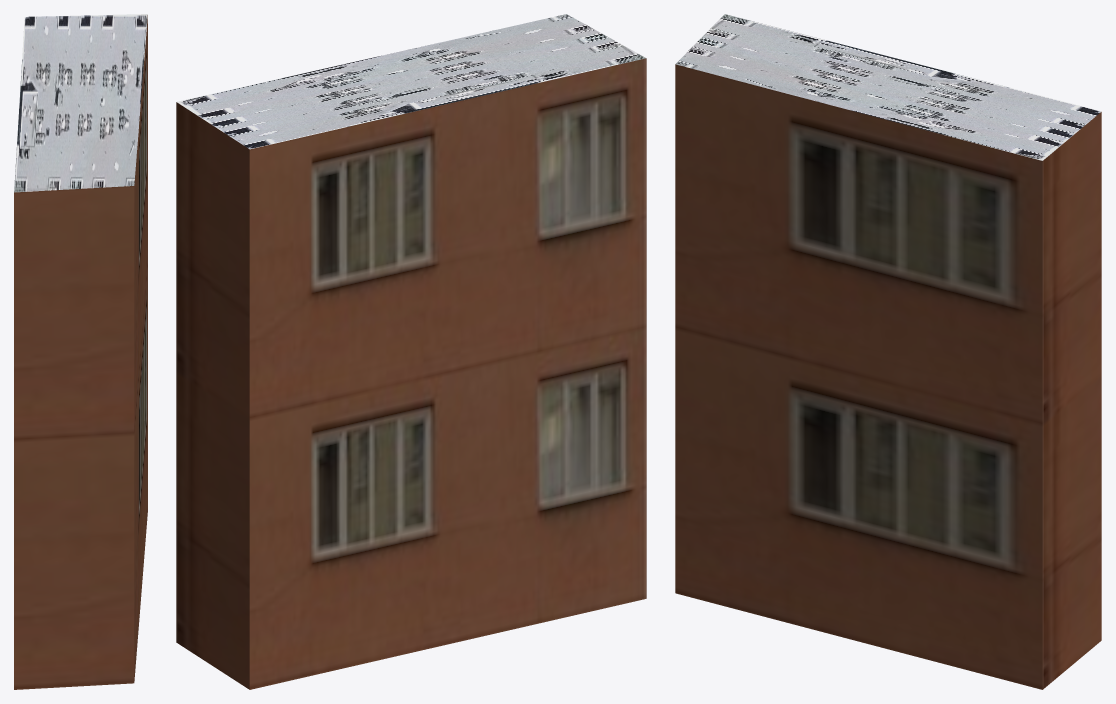
Rendered from ResTex__4488.fbx.
The picture shows the model from 3 angles, left to right: view 1: azimuth 30°, elevation 25°; view 2: azimuth 150°, elevation 25°; view 3: azimuth 270°, elevation 25°; orthographic projection. The views are drawn at different scales.
Parts seen in each view (by area): view 1: CityEngineMaterial_20_m, CityEngineMaterial_m; view 2: CityEngineMaterial_20_m, CityEngineMaterial_m; view 3: CityEngineMaterial_20_m, CityEngineMaterial_m.
Part boxes in pixels (x1,y1,x2,y2): CityEngineMaterial_20_m: (14, 15, 147, 689); CityEngineMaterial_m: (14, 14, 147, 192); CityEngineMaterial_20_m: (176, 58, 646, 689); CityEngineMaterial_m: (177, 14, 645, 149); CityEngineMaterial_20_m: (675, 64, 1101, 689); CityEngineMaterial_m: (675, 14, 1101, 160).
Size of the model in its own units: 3.58 by 6 by 4.39.
2 materials, 2 textured.
